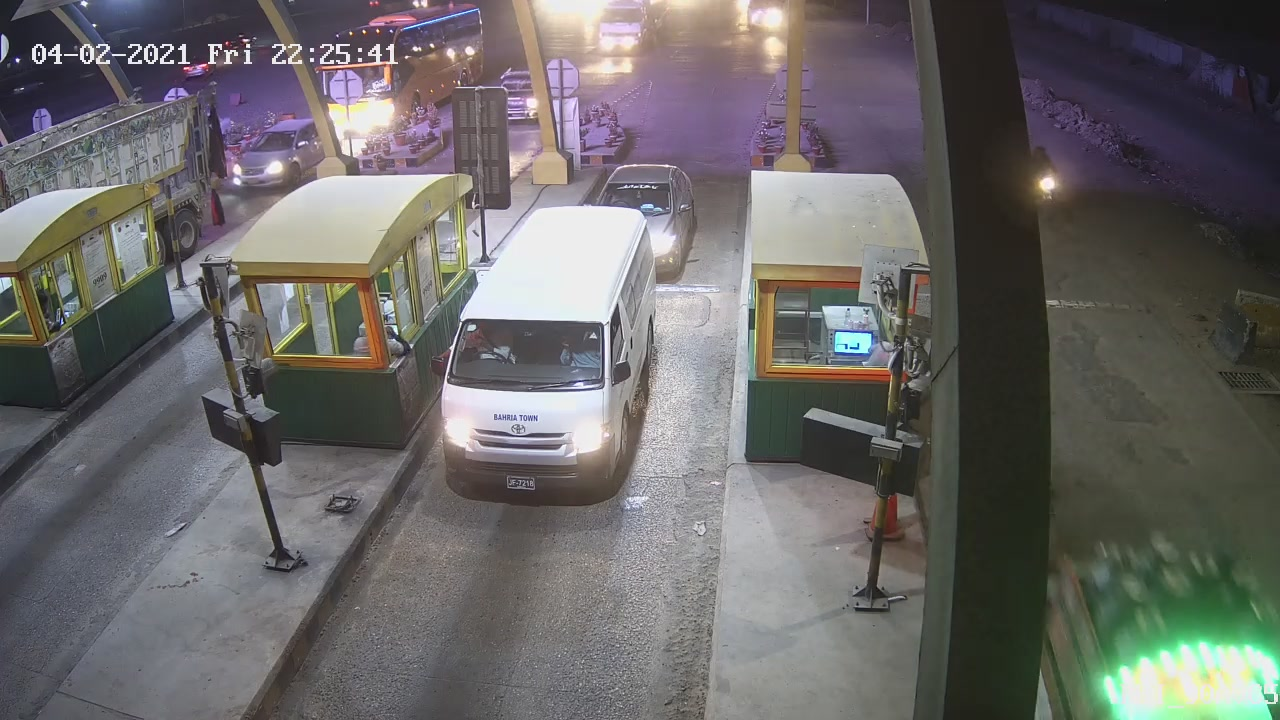F2: (432, 201, 662, 506)
